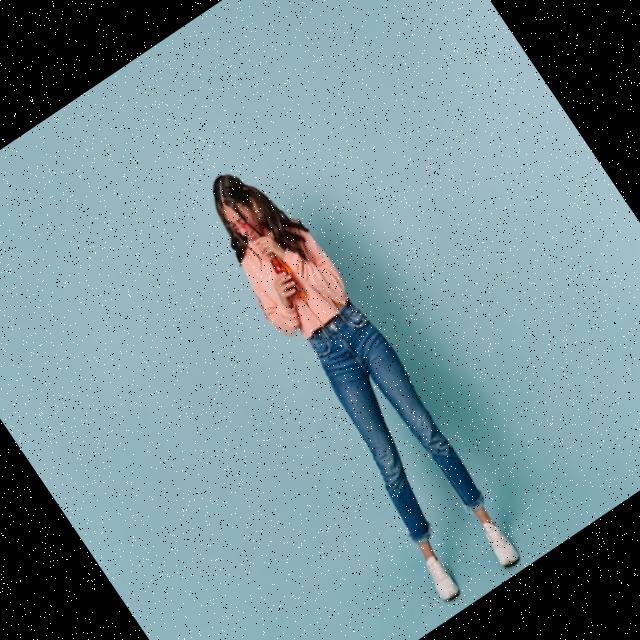Person: (177, 150, 532, 610)
